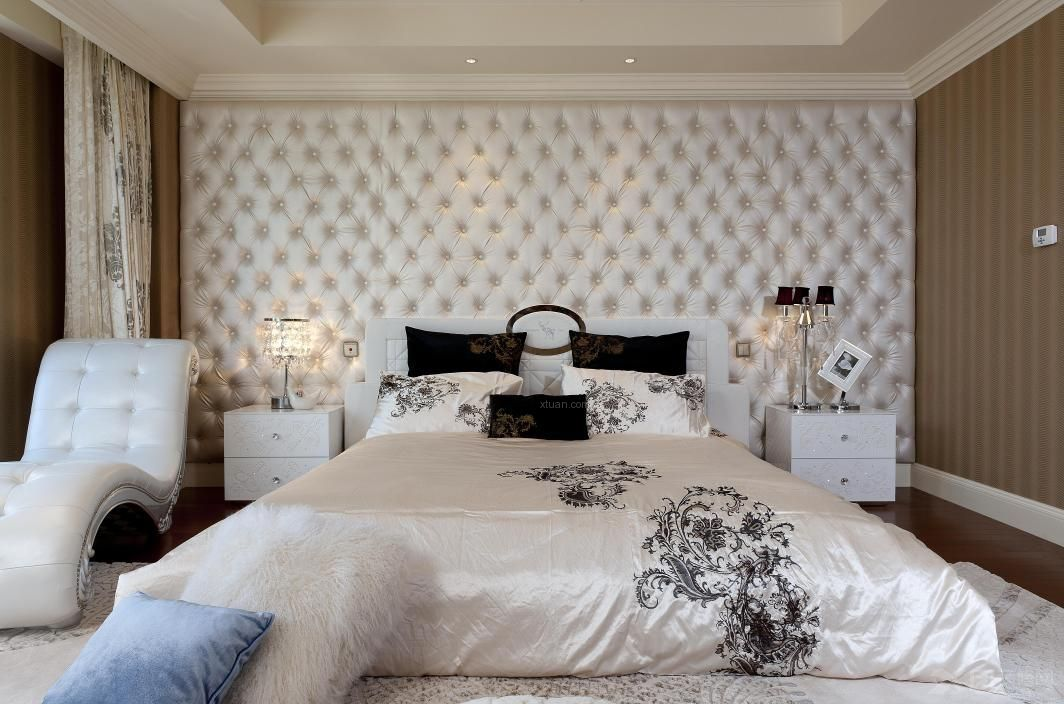床: (86, 425, 1017, 694)
枕头: (369, 366, 693, 443)
灯: (766, 274, 846, 418), (253, 305, 323, 406), (456, 53, 481, 70), (618, 54, 641, 70)
